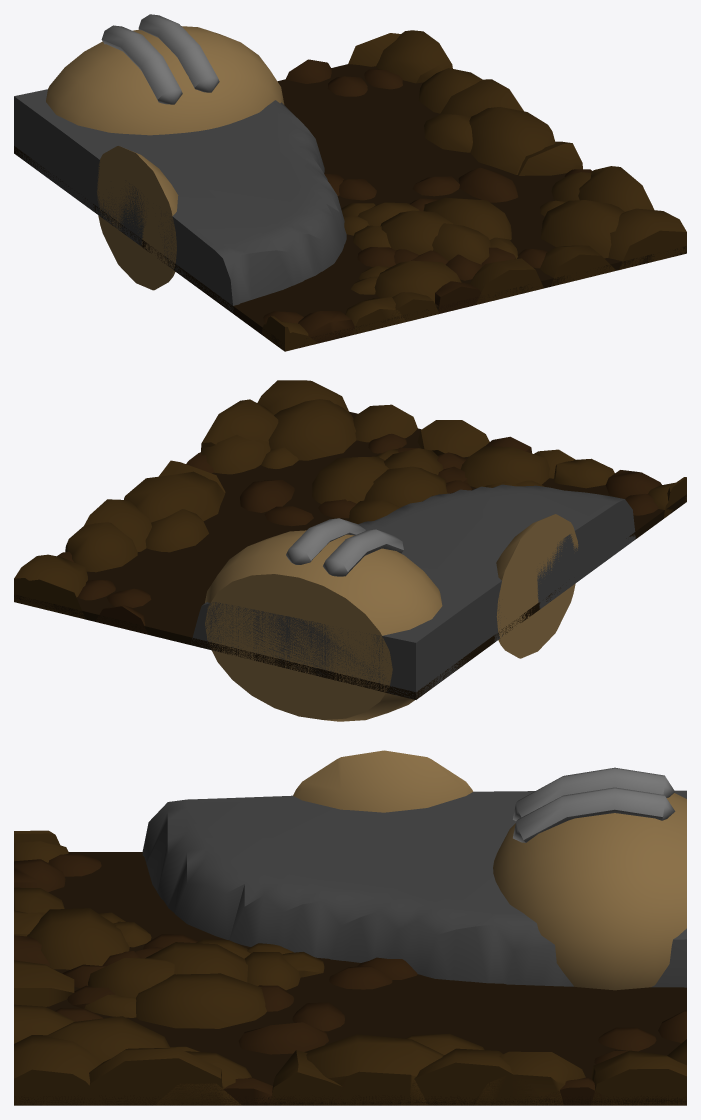
Rendered from gold_domes_br.glb.
3 renders of one model, top to bottom at view 1: azimuth 30°, elevation 25°; view 2: azimuth 150°, elevation 25°; view 3: azimuth 270°, elevation 25°, orthographic. The views are drawn at different scales.
Parts seen in each view (by area): view 1: housing, dirt_base, dome_right, dome_bottom, dirt_29, dirt_20, dirt_0, dirt_50, clamp_right-1, clamp_right1, dirt_21, dirt_56 (+26 smaller); view 2: housing, dome_right, dirt_base, dome_bottom, dirt_0, dirt_29, dirt_21, dirt_3, dirt_58, dirt_50, dirt_80, dirt_36 (+24 smaller); view 3: housing, dirt_base, dome_right, dome_bottom, dirt_29, dirt_36, dirt_58, dirt_20, dirt_37, dirt_50, dirt_21, clamp_right1 (+31 smaller).
Part boxes in pixels (box(x1,y1,x2,y2)): housing: box(14, 89, 346, 312); dirt_base: box(14, 64, 686, 349); dome_right: box(46, 26, 284, 135); dome_bottom: box(97, 146, 178, 290); dirt_29: box(469, 107, 555, 174); dirt_20: box(608, 208, 686, 269); dirt_0: box(540, 200, 624, 258); dirt_50: box(376, 30, 452, 83); clamp_right-1: box(101, 25, 182, 104); clamp_right1: box(138, 14, 219, 92); dirt_21: box(374, 260, 461, 303); dirt_56: box(470, 258, 543, 304); housing: box(191, 484, 635, 699); dome_right: box(205, 530, 442, 721); dirt_base: box(14, 411, 686, 699); dome_bottom: box(496, 514, 578, 658); dirt_0: box(268, 399, 356, 460); dirt_29: box(124, 471, 225, 522); dirt_21: box(460, 446, 549, 487); dirt_3: box(65, 522, 137, 572); dirt_58: box(312, 456, 388, 503); dirt_50: box(14, 554, 87, 612); dirt_80: box(364, 466, 447, 507); dirt_36: box(201, 399, 278, 450); housing: box(142, 790, 686, 987); dirt_base: box(15, 852, 686, 1105); dome_right: box(493, 793, 686, 990); dome_bottom: box(293, 750, 473, 812); dirt_29: box(305, 1034, 444, 1105); dirt_36: box(82, 1047, 222, 1105); dirt_58: box(136, 973, 266, 1028); dirt_20: box(14, 1035, 104, 1105); dirt_37: box(401, 1048, 541, 1105); dirt_50: box(591, 1050, 686, 1105); dirt_21: box(27, 908, 129, 969); clamp_right1: box(513, 787, 675, 842).
Bounding box in the file's own units: 24 × 10.28 × 28.
